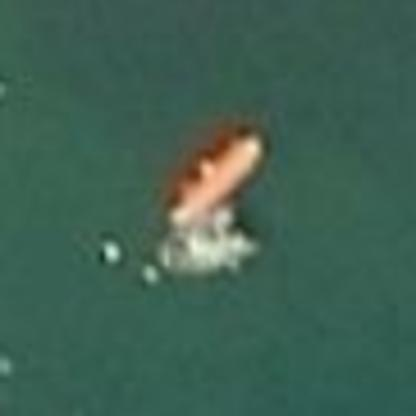ship: (144, 110, 272, 292)
